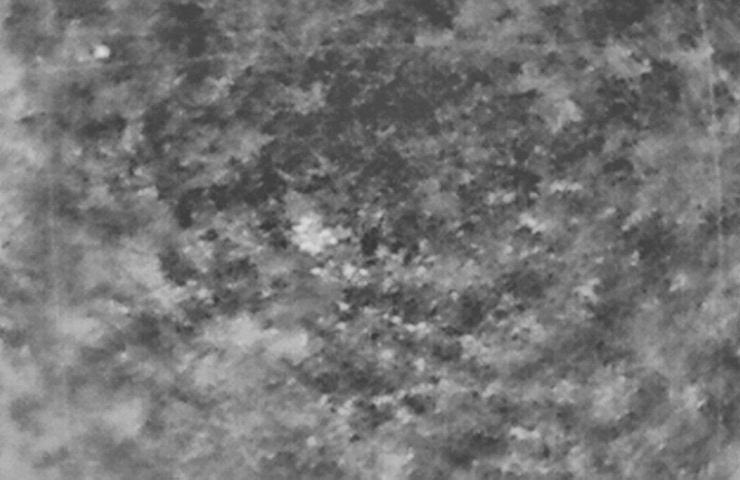landmines: (290, 214, 339, 256)
